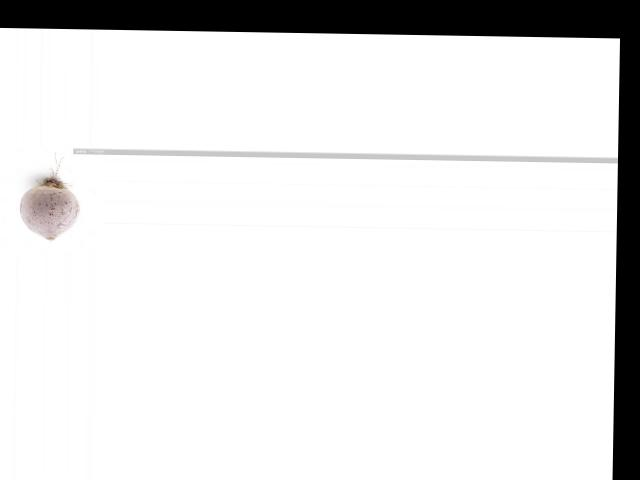beet: (19, 150, 81, 241)
